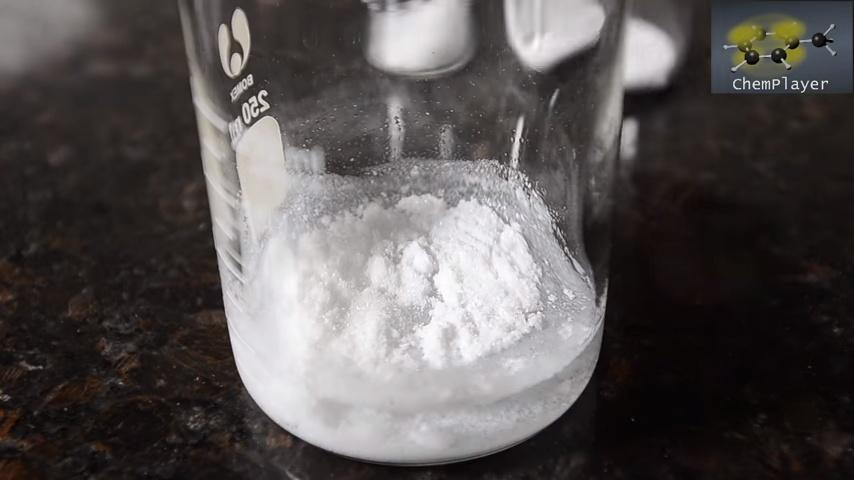Beaker: (165, 19, 613, 468)
